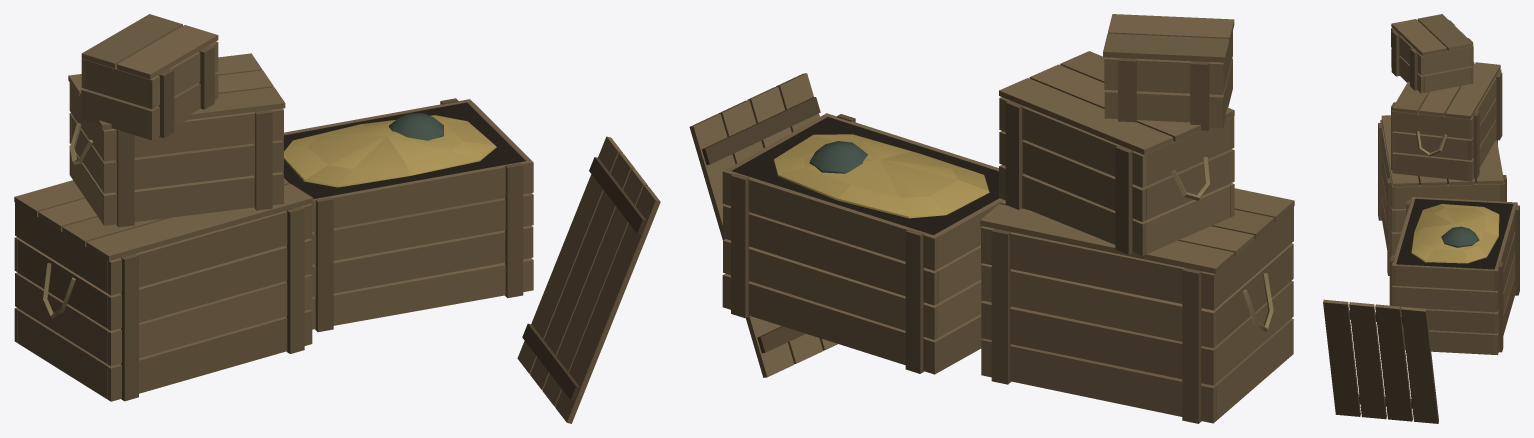
The model's file is cajas_apiladas.glb.
The picture shows the model from 3 angles, left to right: view 1: azimuth 30°, elevation 25°; view 2: azimuth 150°, elevation 25°; view 3: azimuth 270°, elevation 25°; orthographic projection. The views are drawn at different scales.
Parts seen in each view (by area): view 1: CajasApiladas; view 2: CajasApiladas; view 3: CajasApiladas.
Part boxes in pixels (x1=…): CajasApiladas: x1=14, y1=14, x2=660, y2=423; CajasApiladas: x1=689, y1=14, x2=1294, y2=423; CajasApiladas: x1=1323, y1=14, x2=1519, y2=423.
Size of what is drawn, in the model's own units: 2.04 by 1.45 by 0.9608.
